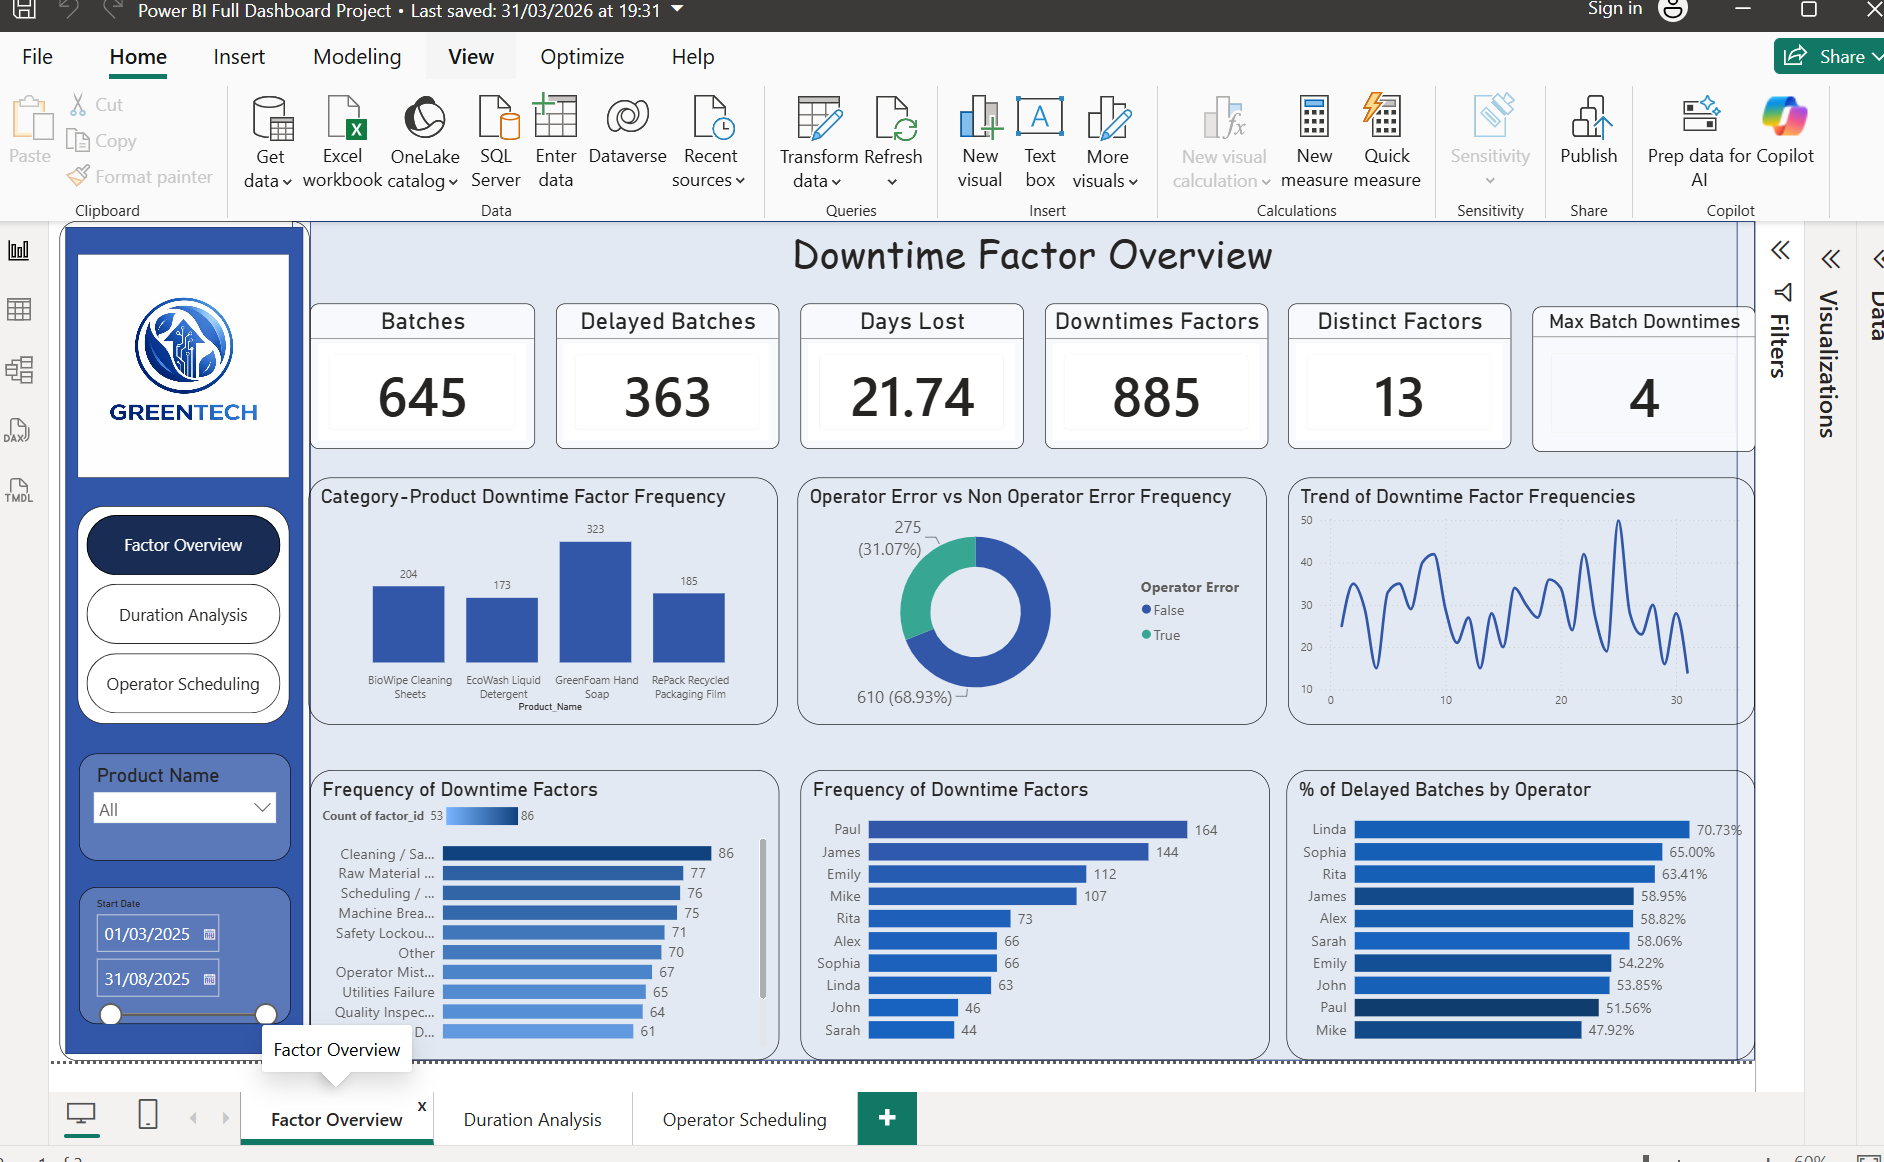

What the dashboard file says about the page in this screenshot:
{"tool":"powerbi","page":{"name":"Factor Overview","canvas":[1900,936],"ordinal":0},"visuals":[{"type":"shape","box":[289.9,0,1609.3,935],"z":0},{"type":"shape","box":[270,0,1610,936],"z":1000},{"type":"textbox","box":[289.9,0,1609.3,71.9],"z":2000},{"type":"cardVisual","title":"Batches","fields":{"Data":["CountNonNull(batch_pd.batch_id)"]},"box":[290.6,92.2,250.8,161.7],"z":3000},{"type":"cardVisual","title":"Delayed Batches","fields":{"Data":["Count(downtimes.Batch_ID)"]},"box":[564.8,92.2,248.4,161.7],"z":4000},{"type":"cardVisual","title":"Days Lost","fields":{"Data":["Sum(downtimes.Days)"]},"box":[836.7,92.2,248.4,161.7],"z":5000},{"type":"cardVisual","title":"Distinct Factors","fields":{"Data":["Count(downtimes.factor_id)"]},"box":[1380.5,92.2,248.4,161.7],"z":6000},{"type":"cardVisual","title":"Max Batch Downtimes","fields":{"Data":["downtimes.Max downtime per batch"]},"box":[1651.6,94.6,248.4,161.7],"z":7000},{"type":"cardVisual","title":"Downtimes Factors","fields":{"Data":["CountNonNull(downtimes.factor_id)"]},"box":[1108.6,92.2,248.4,161.7],"z":8000},{"type":"columnChart","title":"Category-Product Downtime Factor Frequency","fields":{"Y":["CountNonNull(downtimes.factor_id)"],"Category":["products.Category Hierarchy.Category","products.Category Hierarchy.Product_Name"]},"box":[289.8,285.1,522.7,275],"z":9000},{"type":"donutChart","title":"Operator Error vs Non Operator Error Frequency","fields":{"Category":["downtime_factors.Operator_Error"],"Y":["CountNonNull(downtimes.factor_id)"]},"box":[833.5,285.1,522.7,275],"z":10000},{"type":"lineChart","title":"Trend of Downtime Factor Frequencies","fields":{"Category":["batch_pd.start_date.Variation.Date Hierarchy.Year","batch_pd.start_date.Variation.Date Hierarchy.Quarter","batch_pd.start_date.Variation.Date Hierarchy.Month","batch_pd.start_date.Variation.Date Hierarchy.Day"],"Y":["CountNonNull(downtimes.factor_id)"]},"box":[1379.6,285.1,520.3,275],"z":11000},{"type":"barChart","title":"Frequency of Downtime Factors","fields":{"Y":["CountNonNull(downtimes.factor_id)"],"Category":["downtime_factors.Factor_Name"]},"box":[290.6,611.7,522.7,323.4],"z":12000},{"type":"barChart","title":"Frequency of Downtime Factors","fields":{"Y":["CountNonNull(downtimes.factor_id)"],"Category":["batch_pd.operator"]},"box":[836.7,611.7,522.7,323.4],"z":13000},{"type":"barChart","title":"% of Delayed Batches by Operator","fields":{"Category":["batch_pd.operator"],"Y":["downtimes.Delayed Batches %"]},"box":[1378.1,611.7,522.7,323.4],"z":14000},{"type":"shape","box":[11.2,0,278.7,935],"z":15000},{"type":"slicer","fields":{"Values":["products.Product_Name"]},"box":[33.7,593.4,236,119.1],"z":16000},{"type":"slicer","fields":{"Values":["batch_pd.start_date"]},"box":[33.7,741.7,236,152.8],"z":17000},{"type":"image","box":[31.5,36,236,249.5],"z":18000},{"type":"pageNavigator","box":[31.5,316.9,236,242.7],"z":19000}]}

Visuals, with their boxes on the page's 1900x936 design canvas (x1, y1, x2, y2). These are canvas units, not pixel positions in the 1884x1162 screenshot, which may show the page scaled, cropped or inside an application window:
shape: BBox(290, 0, 1899, 935)
shape: BBox(270, 0, 1880, 936)
textbox: BBox(290, 0, 1899, 72)
"Batches" cardVisual: BBox(291, 92, 541, 254)
"Delayed Batches" cardVisual: BBox(565, 92, 813, 254)
"Days Lost" cardVisual: BBox(837, 92, 1085, 254)
"Distinct Factors" cardVisual: BBox(1380, 92, 1629, 254)
"Max Batch Downtimes" cardVisual: BBox(1652, 95, 1900, 256)
"Downtimes Factors" cardVisual: BBox(1109, 92, 1357, 254)
"Category-Product Downtime Factor Frequency" columnChart: BBox(290, 285, 812, 560)
"Operator Error vs Non Operator Error Frequency" donutChart: BBox(834, 285, 1356, 560)
"Trend of Downtime Factor Frequencies" lineChart: BBox(1380, 285, 1900, 560)
"Frequency of Downtime Factors" barChart: BBox(291, 612, 813, 935)
"Frequency of Downtime Factors" barChart: BBox(837, 612, 1359, 935)
"% of Delayed Batches by Operator" barChart: BBox(1378, 612, 1901, 935)
shape: BBox(11, 0, 290, 935)
slicer - products.Product_Name: BBox(34, 593, 270, 712)
slicer - batch_pd.start_date: BBox(34, 742, 270, 894)
image: BBox(32, 36, 268, 286)
pageNavigator: BBox(32, 317, 268, 560)
